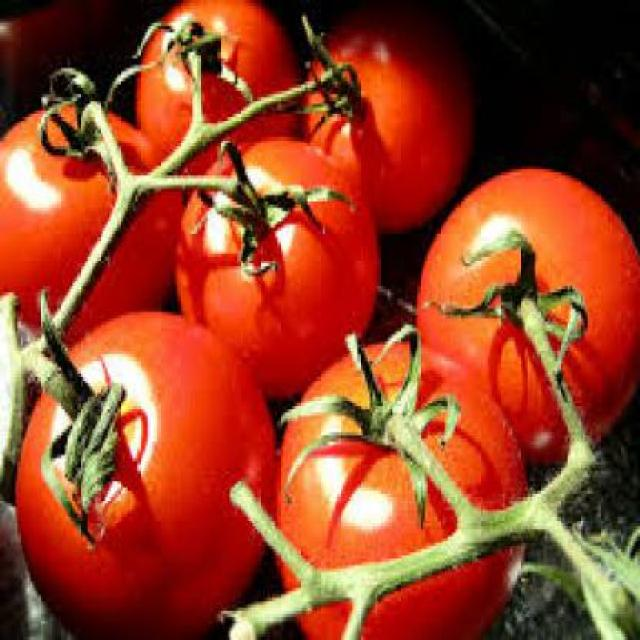BIODEGRADABLE: (12, 315, 272, 637), (272, 321, 525, 637), (412, 159, 637, 464), (176, 133, 376, 390), (0, 85, 180, 338), (300, 16, 475, 238), (133, 3, 302, 169)
